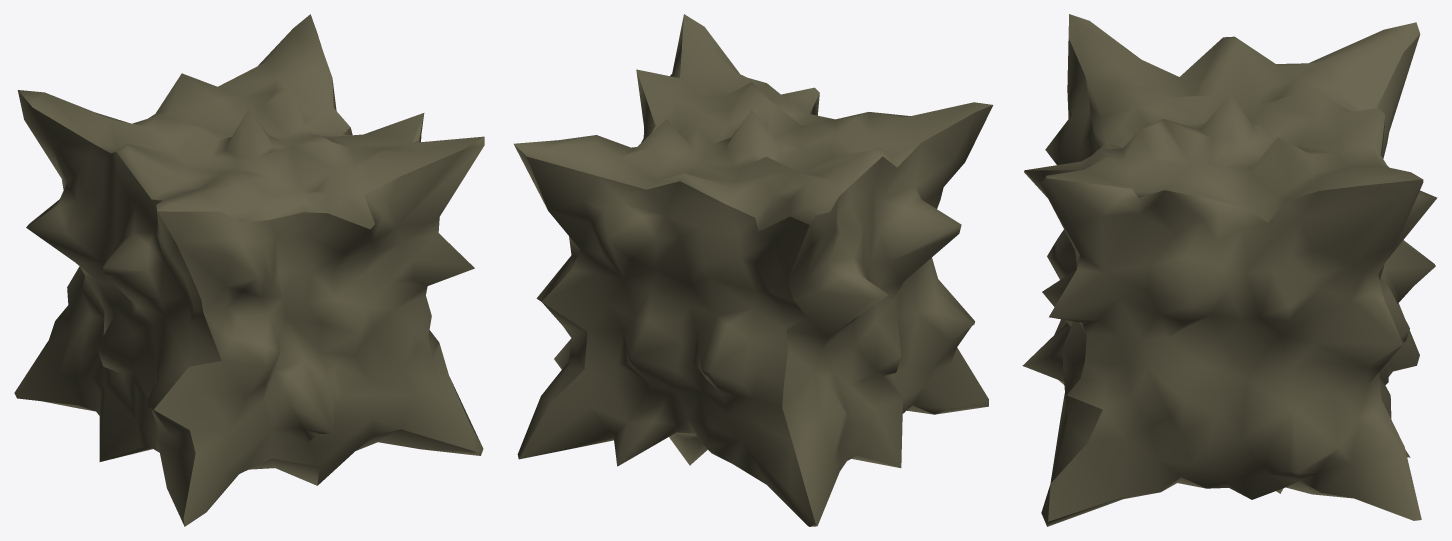
The model's file is hvs_breakable_t5.fbx.
3 renders of one model, left to right at view 1: azimuth 30°, elevation 25°; view 2: azimuth 150°, elevation 25°; view 3: azimuth 270°, elevation 25°, orthographic. The views are drawn at different scales.
Visible parts, largest first — view 1: hvs_breakable_t5_lp.002; view 2: hvs_breakable_t5_lp.002; view 3: hvs_breakable_t5_lp.002.
Boxes of the visible parts, left/top/right/bottom form: hvs_breakable_t5_lp.002: left=14, top=14, right=484, bottom=526; hvs_breakable_t5_lp.002: left=514, top=14, right=993, bottom=526; hvs_breakable_t5_lp.002: left=1022, top=14, right=1437, bottom=526.
Size of the model in its own units: 20.51 by 19.66 by 19.45.
